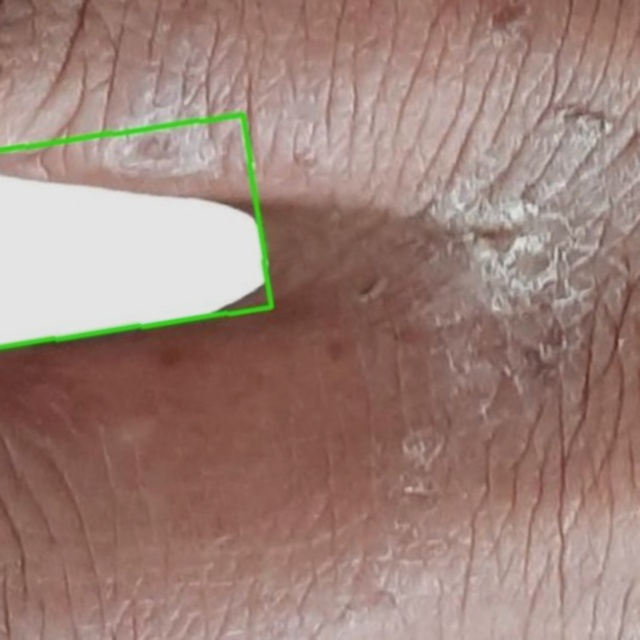Scabies: (0, 113, 272, 346)
